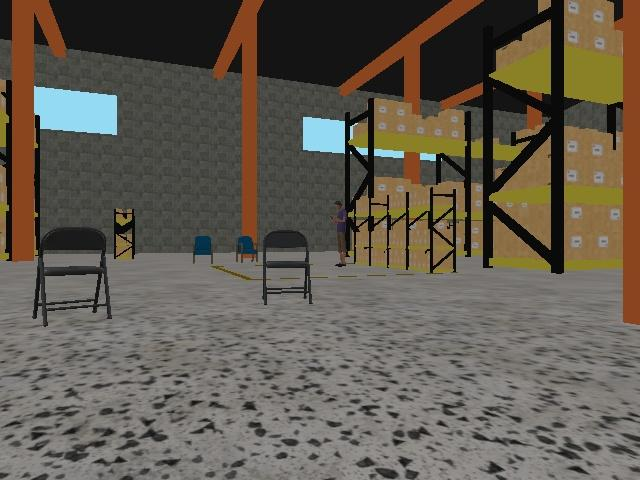chair: (32, 227, 113, 327), (262, 230, 312, 305), (233, 236, 259, 264), (192, 236, 213, 266)
person: (330, 201, 348, 268)
